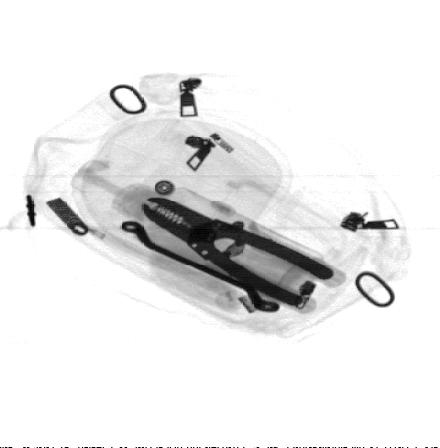Pliers: (140, 196, 335, 308)
Wrench: (120, 220, 280, 312)
